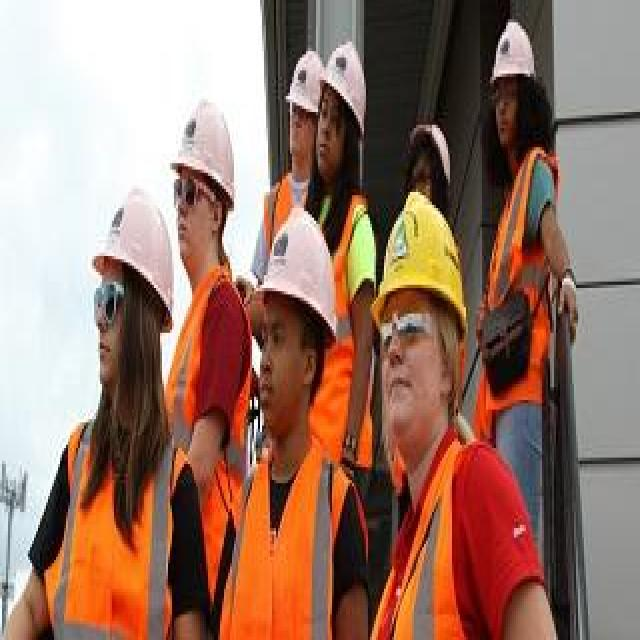Reflective-Jacket: (42, 416, 180, 640), (226, 438, 334, 640), (388, 441, 468, 640)
Safety-Helmet: (88, 179, 176, 307), (378, 204, 468, 314), (258, 212, 338, 326), (168, 93, 240, 198), (318, 38, 368, 122), (488, 19, 538, 86), (284, 48, 324, 112)
